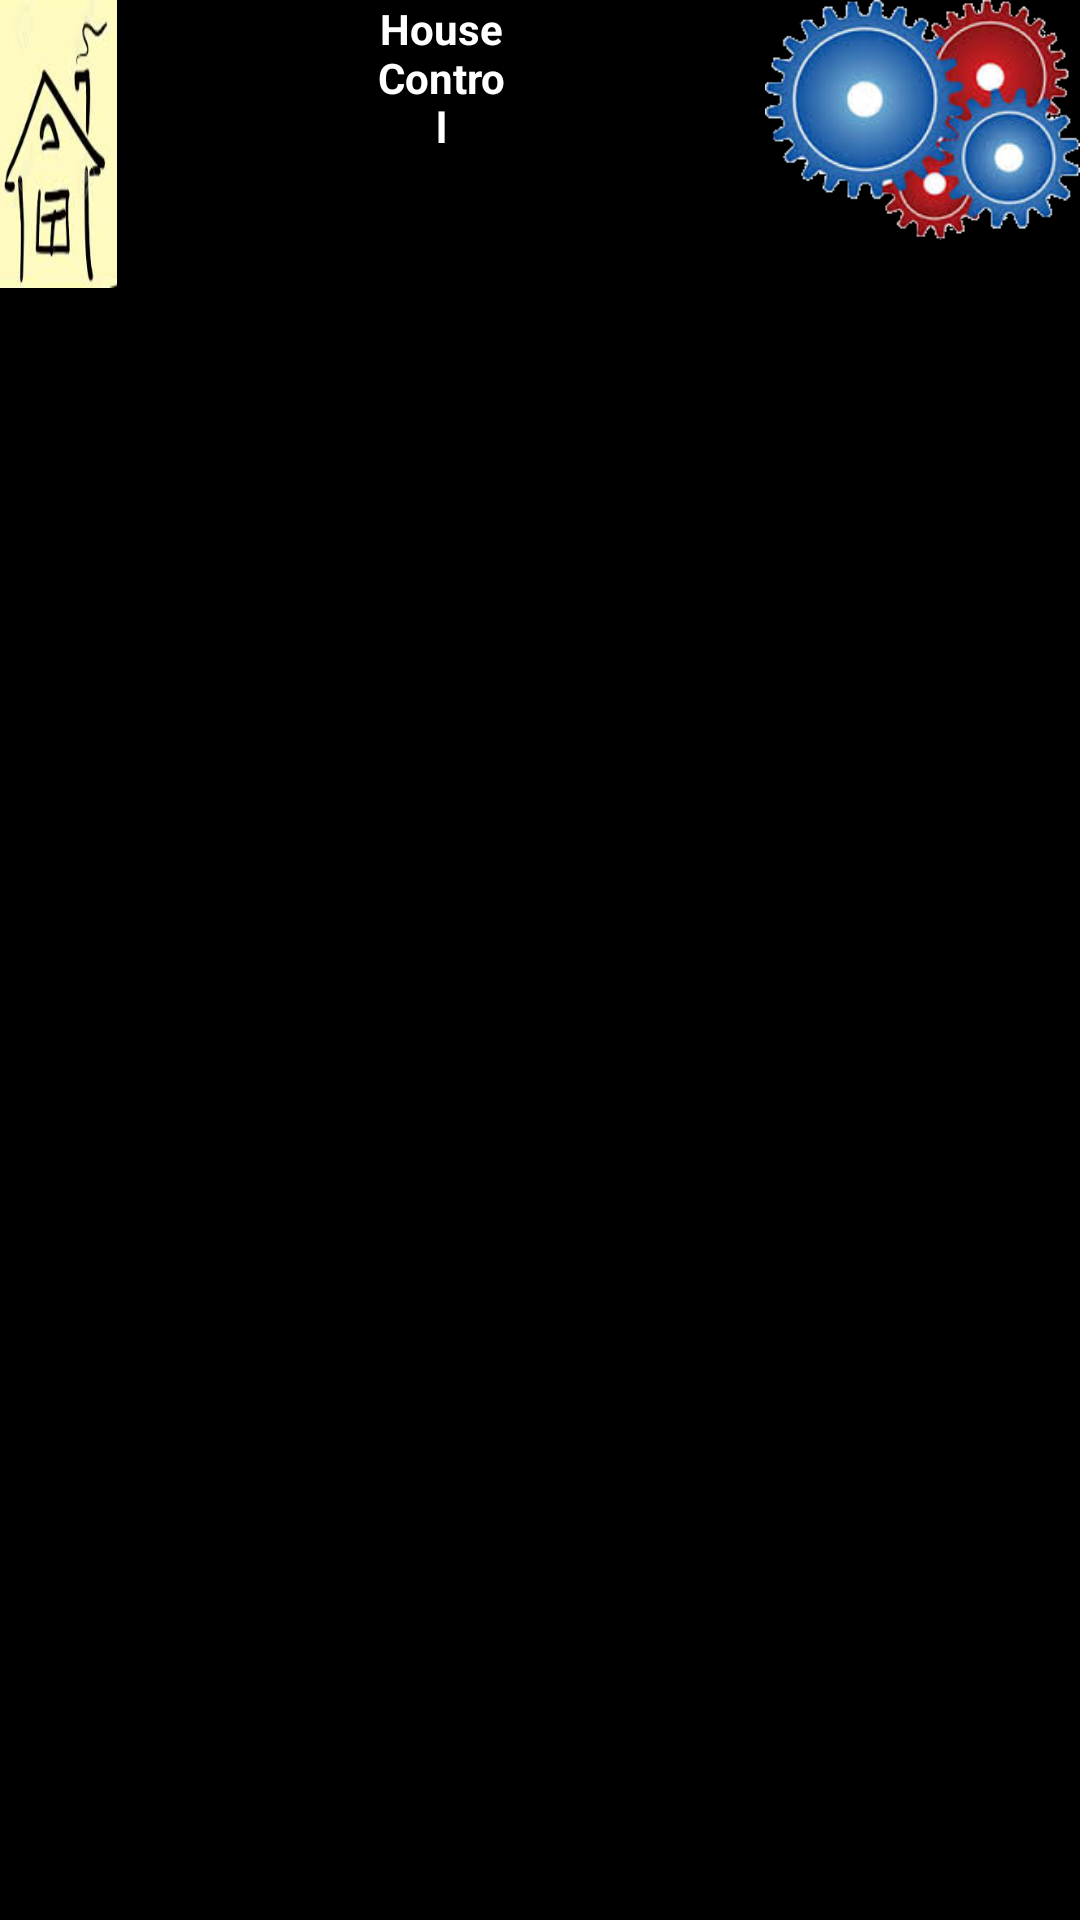

Icon bounding boxes for this 1080w x 1920h phone screenshot, format (x1,y1,x2,y2):
house: (0,0,117,288)
settings: (765,0,1080,240)
